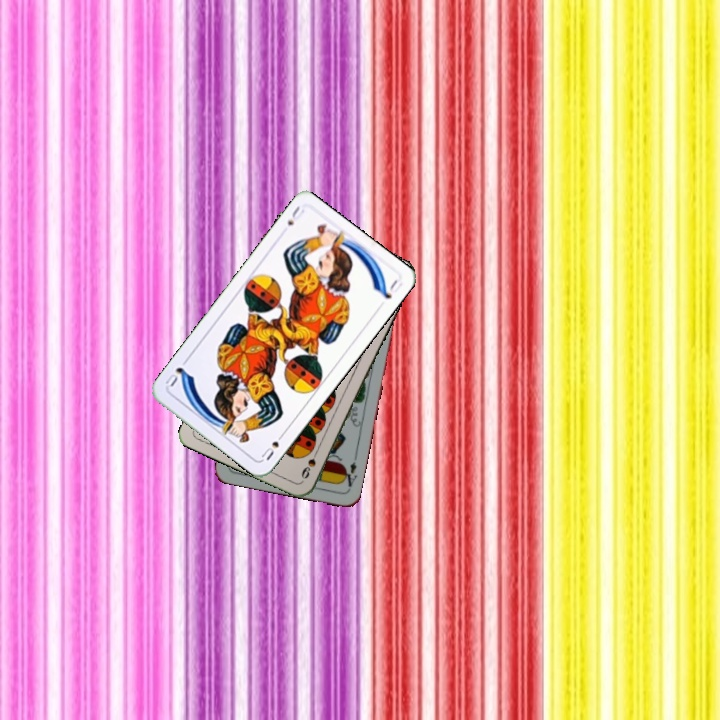EA: (338, 458, 360, 492)
S9: (297, 444, 321, 482)
SU: (257, 428, 287, 463), (283, 202, 302, 228)
